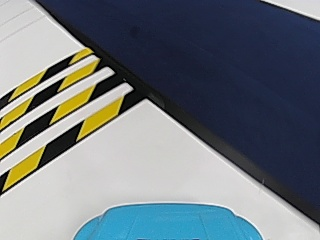bump: (5, 64, 88, 150)
